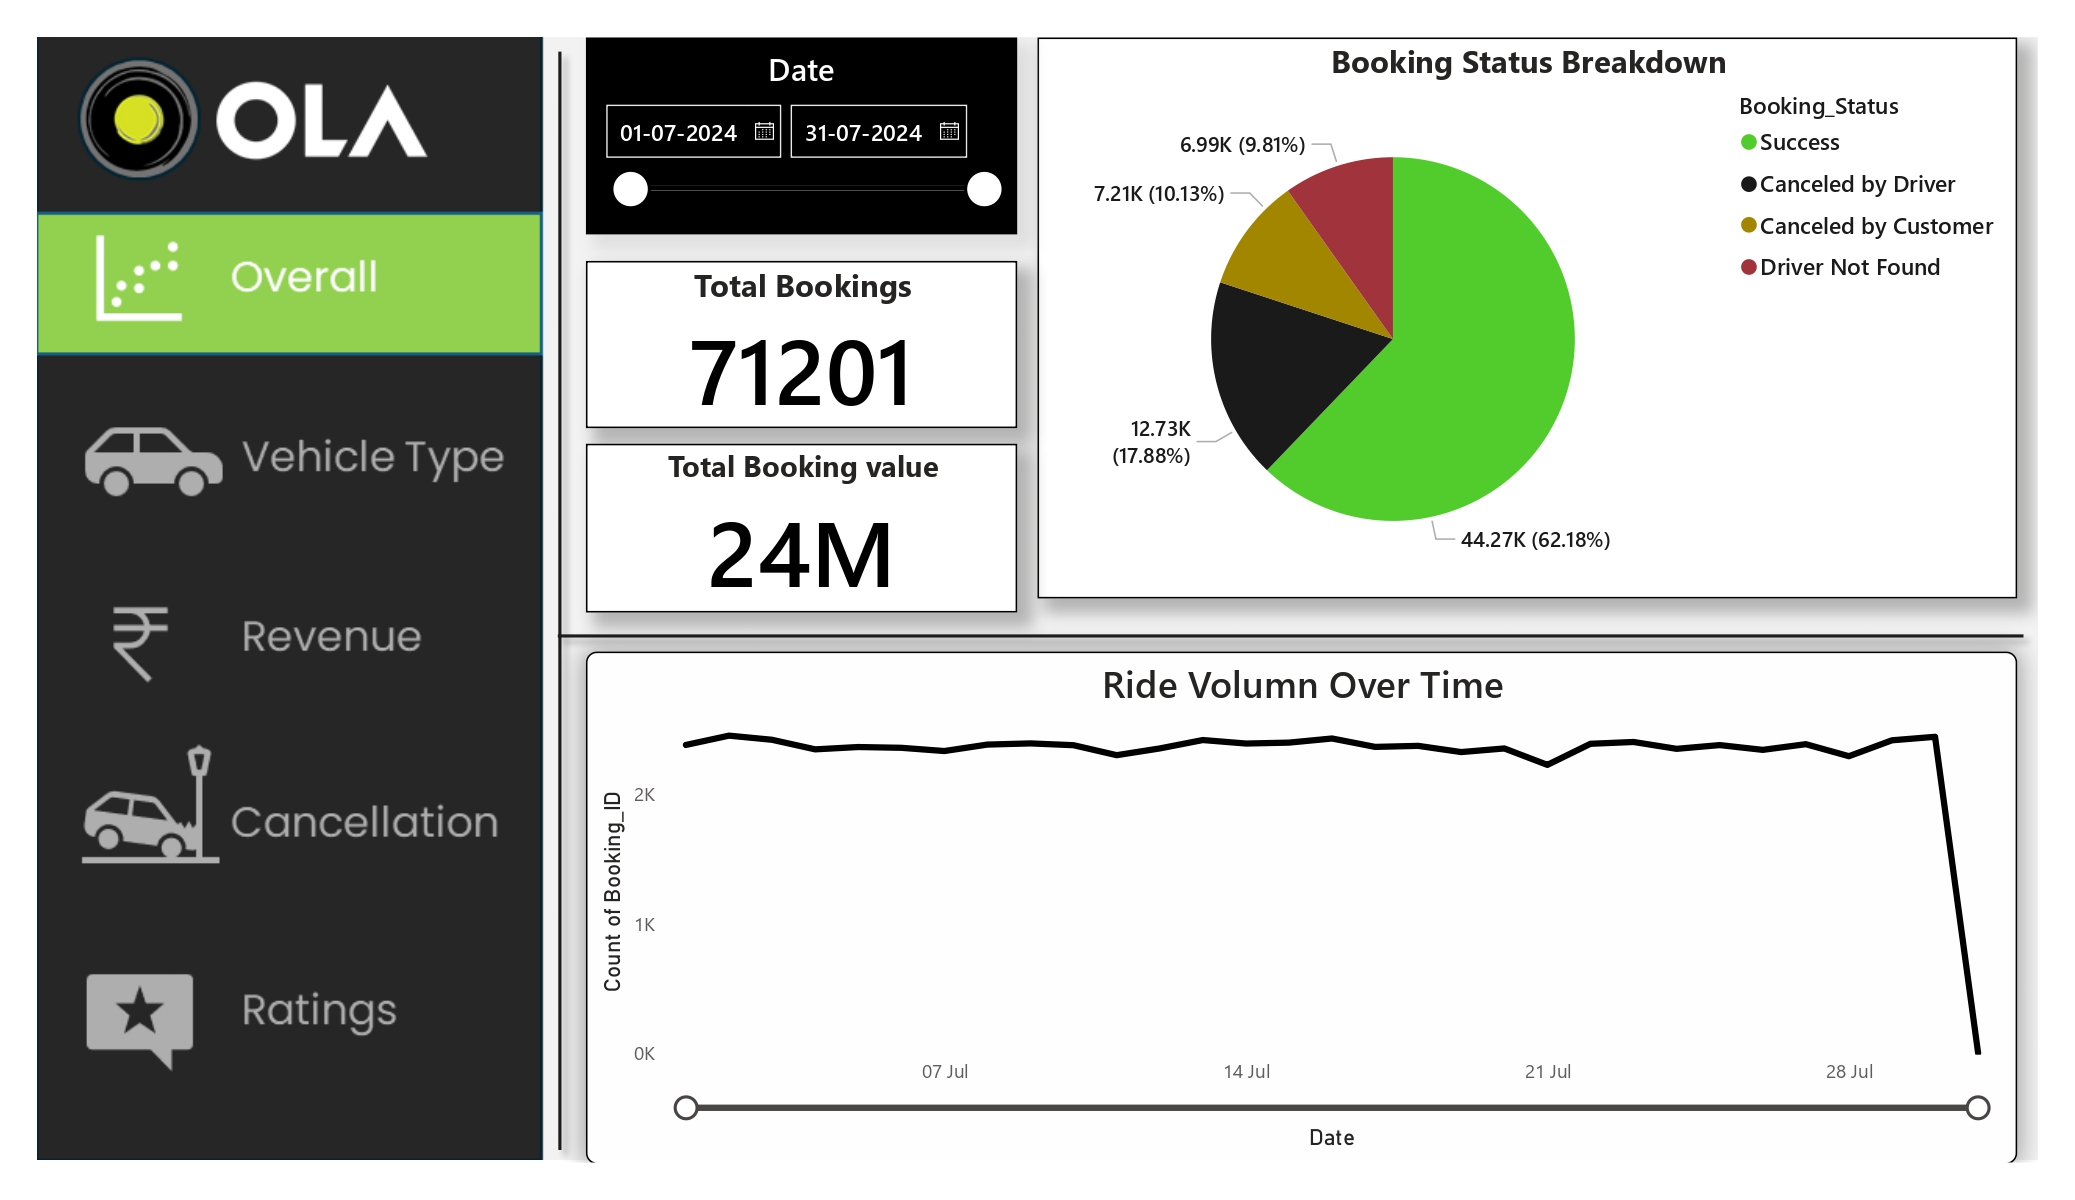

The page's visual inventory and layout, read from the dashboard file:
{"tool":"powerbi","page":{"name":"overall","canvas":[1280,720],"ordinal":0},"visuals":[{"type":"actionButton","box":[0,337.1,324.3,90],"z":0},{"type":"actionButton","box":[0,448.6,324.3,90],"z":1000},{"type":"actionButton","box":[0,575.7,324.3,90],"z":2000},{"type":"actionButton","box":[0,580,324.3,90],"z":3000},{"type":"actionButton","box":[0,342.9,324.3,90],"z":4000},{"type":"actionButton","box":[0,110.6,324.6,90.7],"z":5000},{"type":"actionButton","box":[0,223.9,324.6,90.7],"z":6000},{"type":"actionButton","box":[0,337.3,324.6,90.7],"z":7000},{"type":"actionButton","box":[0,447.9,324.6,90.7],"z":8000},{"type":"actionButton","box":[0,579.7,324.6,90.7],"z":9000},{"type":"actionButton","box":[0,111.4,324.3,85.7],"z":10000},{"type":"actionButton","box":[0,223.9,324.6,90.7],"z":11000},{"type":"actionButton","box":[10,347.3,324.6,90.7],"z":12000},{"type":"actionButton","box":[0,452.9,324.3,90],"z":13000},{"type":"actionButton","box":[0,594.3,324.3,90],"z":14000},{"type":"lineChart","title":"Ride Volumn Over Time","fields":{"Y":["CountNonNull(Bookings.Booking_ID)"],"Category":["Bookings.Date"]},"box":[351.1,393.1,915.5,327.6],"z":15000},{"type":"pieChart","title":"Booking Status Breakdown","fields":{"Category":["Bookings.Booking_Status"],"Y":["CountNonNull(Bookings.Booking_Status)"]},"box":[640,0,626.6,359.5],"z":16000},{"type":"shape","box":[317.5,0,33.6,720.6],"z":17000},{"type":"shape","box":[324.2,359.5,955.8,47],"z":18000},{"type":"slicer","title":"Date","fields":{"Values":["Bookings.Date"]},"box":[351.1,0,275.5,126],"z":19000},{"type":"card","title":"Total Bookings","fields":{"Values":["CountNonNull(Bookings.Booking_ID)"]},"box":[351.1,142.8,275.5,107.5],"z":20000},{"type":"card","title":"Total Booking value","fields":{"Values":["Sum(Bookings.Booking_Value)"]},"box":[351.1,260.4,275.5,107.5],"z":21000}]}

Visuals, with their boxes in screenshot pixels (x1, y1, x2, y2):
actionButton: Rect(38, 564, 544, 705)
actionButton: Rect(38, 738, 544, 879)
actionButton: Rect(38, 937, 544, 1078)
actionButton: Rect(38, 944, 544, 1084)
actionButton: Rect(38, 573, 544, 714)
actionButton: Rect(38, 210, 545, 352)
actionButton: Rect(38, 387, 545, 529)
actionButton: Rect(38, 565, 545, 706)
actionButton: Rect(38, 737, 545, 879)
actionButton: Rect(38, 943, 545, 1085)
actionButton: Rect(38, 212, 544, 345)
actionButton: Rect(38, 387, 545, 529)
actionButton: Rect(53, 580, 560, 722)
actionButton: Rect(38, 745, 544, 886)
actionButton: Rect(38, 966, 544, 1107)
"Ride Volumn Over Time" lineChart: Rect(586, 652, 2017, 1162)
"Booking Status Breakdown" pieChart: Rect(1038, 38, 2017, 599)
shape: Rect(534, 38, 586, 1162)
shape: Rect(544, 599, 2038, 673)
"Date" slicer: Rect(586, 38, 1017, 234)
"Total Bookings" card: Rect(586, 261, 1017, 429)
"Total Booking value" card: Rect(586, 444, 1017, 612)
